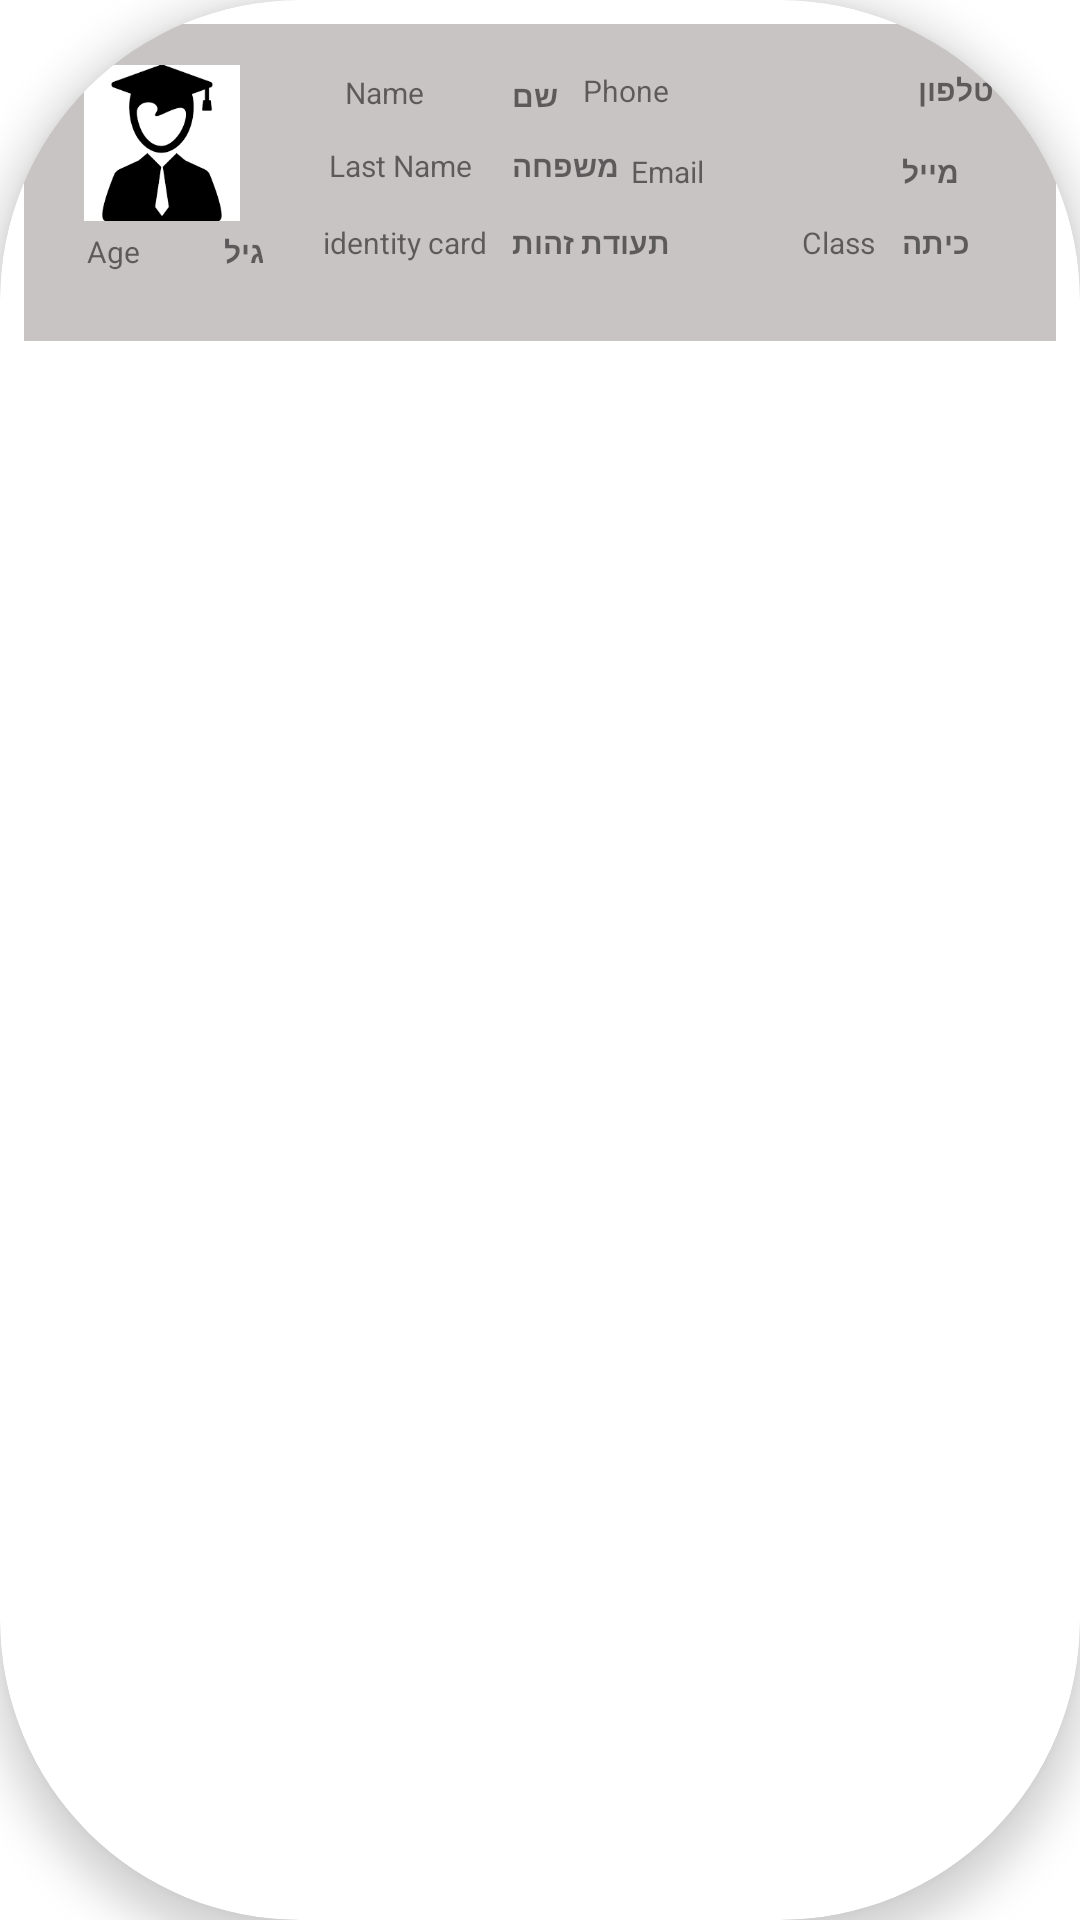

Locate icon controls on the screen. Image size 1080×1920, boxes as box=[x1, y1, x2, y2].
student: box=[84, 63, 240, 221]
